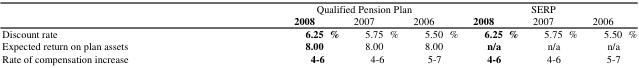table: (1, 0, 636, 65)
table column: (1, 0, 210, 65), (210, 0, 345, 65), (345, 0, 405, 65), (464, 0, 524, 65), (524, 0, 584, 65), (405, 0, 464, 65), (584, 0, 636, 65)
table column header: (1, 0, 636, 26)
table row: (1, 51, 636, 65), (1, 0, 636, 13), (1, 13, 636, 26), (1, 26, 636, 39), (1, 39, 636, 51)
table spanning cell: (210, 0, 464, 13), (464, 0, 636, 13)
